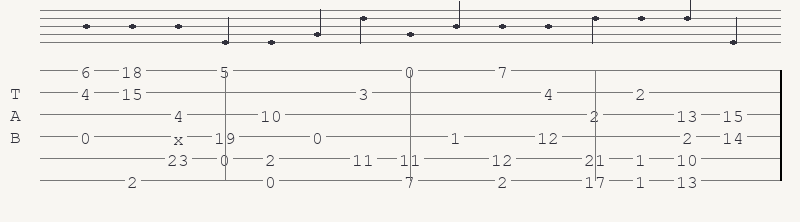0: (80, 129, 95, 144), (219, 151, 234, 166), (265, 173, 280, 188), (312, 129, 327, 144), (404, 63, 419, 78)
1: (450, 129, 465, 144), (635, 151, 650, 166), (635, 173, 650, 188)
10: (260, 107, 286, 122), (676, 151, 702, 166)
11: (352, 151, 378, 166), (399, 151, 425, 166)
12: (491, 151, 517, 166), (537, 129, 563, 144)
13: (676, 173, 702, 188), (676, 107, 702, 122)
14: (722, 129, 748, 144)
15: (121, 85, 147, 100), (722, 107, 748, 122)
17: (584, 173, 610, 188)
18: (121, 63, 147, 78)
19: (214, 129, 240, 144)
2: (127, 173, 142, 188), (265, 151, 280, 166), (497, 173, 512, 188), (589, 107, 604, 122), (635, 85, 650, 100), (682, 129, 697, 144)
21: (584, 151, 610, 166)
23: (167, 151, 193, 166)
3: (358, 85, 373, 100)
4: (80, 85, 95, 100), (173, 107, 188, 122), (543, 85, 558, 100)
5: (219, 63, 234, 78)
6: (80, 63, 95, 78)
7: (404, 173, 419, 188), (497, 63, 512, 78)
x: (173, 130, 188, 142)
